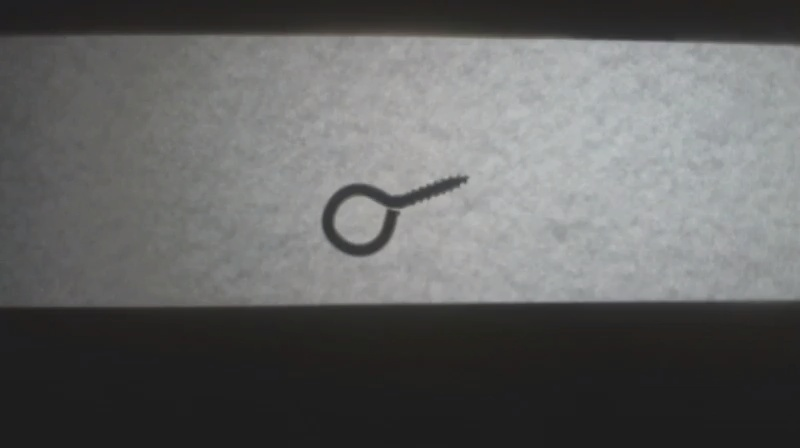O001: (316, 168, 473, 260)
